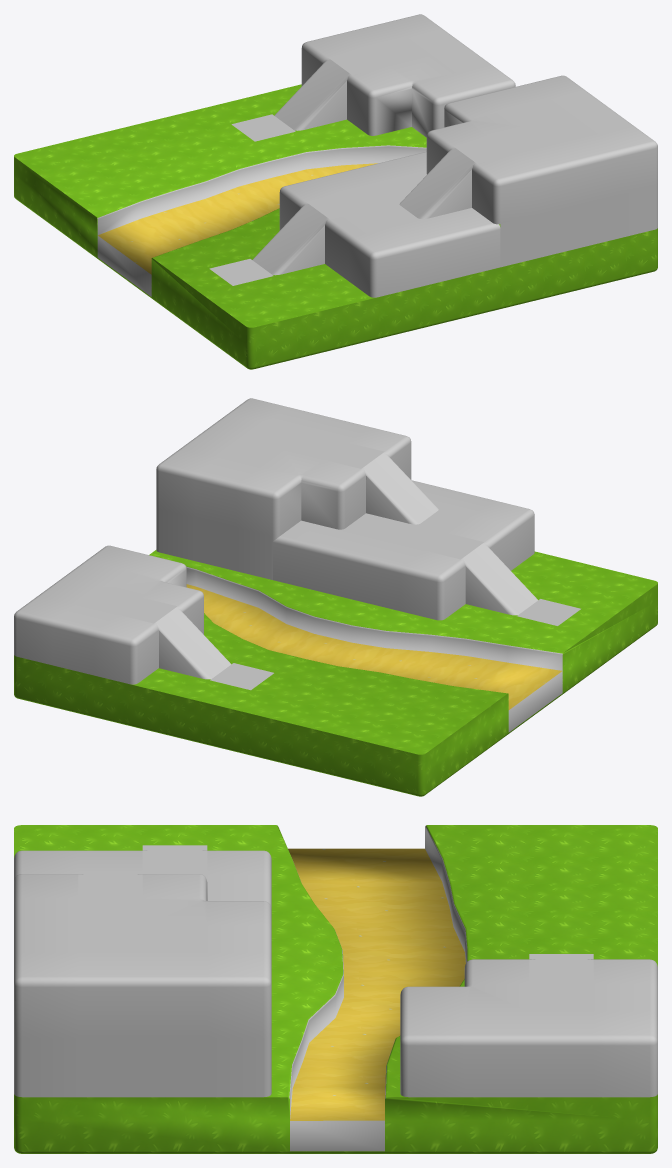
File: LEVEL 1.fbx
3 renders of one model, top to bottom at view 1: azimuth 30°, elevation 25°; view 2: azimuth 150°, elevation 25°; view 3: azimuth 270°, elevation 25°, orthographic. The views are drawn at different scales.
Parts seen in each view (by area): view 1: Level 1; view 2: Level 1; view 3: Level 1.
Part boxes in pixels (box(x1,y1,x2,y2)): Level 1: box(14, 14, 657, 369); Level 1: box(14, 398, 657, 796); Level 1: box(14, 825, 657, 1153).
Bounding box in the file's own units: 1000 × 301 × 1000.
